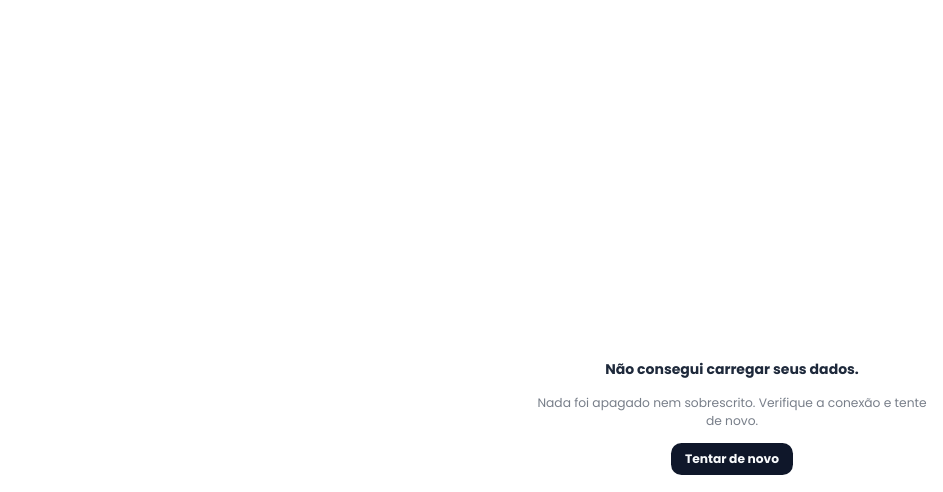
quando a leitura falha › mostra o erro e o botão de tentar de novo, sem apagar nada, e a segunda tentativa funciona
Expected: the message shows "Não consegui carregar seus dados", [605,359,859,379]
Expected: the text "tudo certo" is not shown
Click the button "Tentar de novo". click: (732, 459)
box: [671,443,793,475]
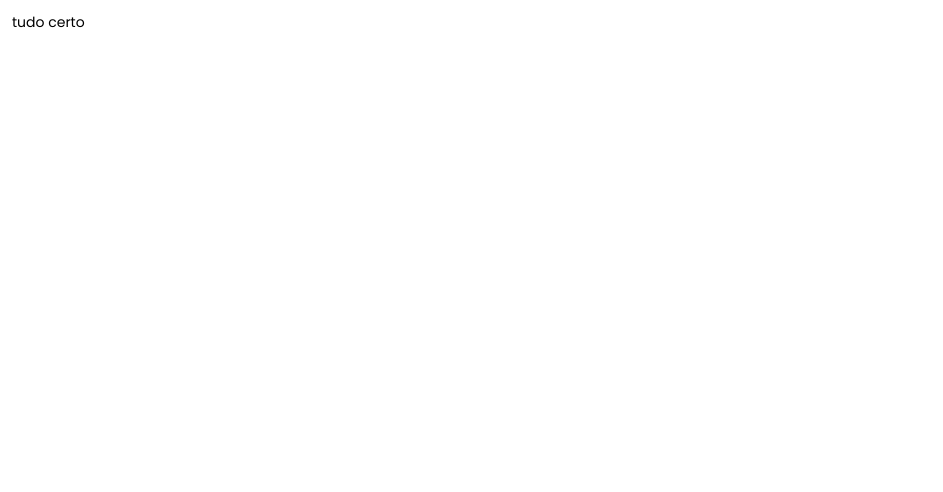
Expected: the text "tudo certo" is shown, [12,12,85,32]
